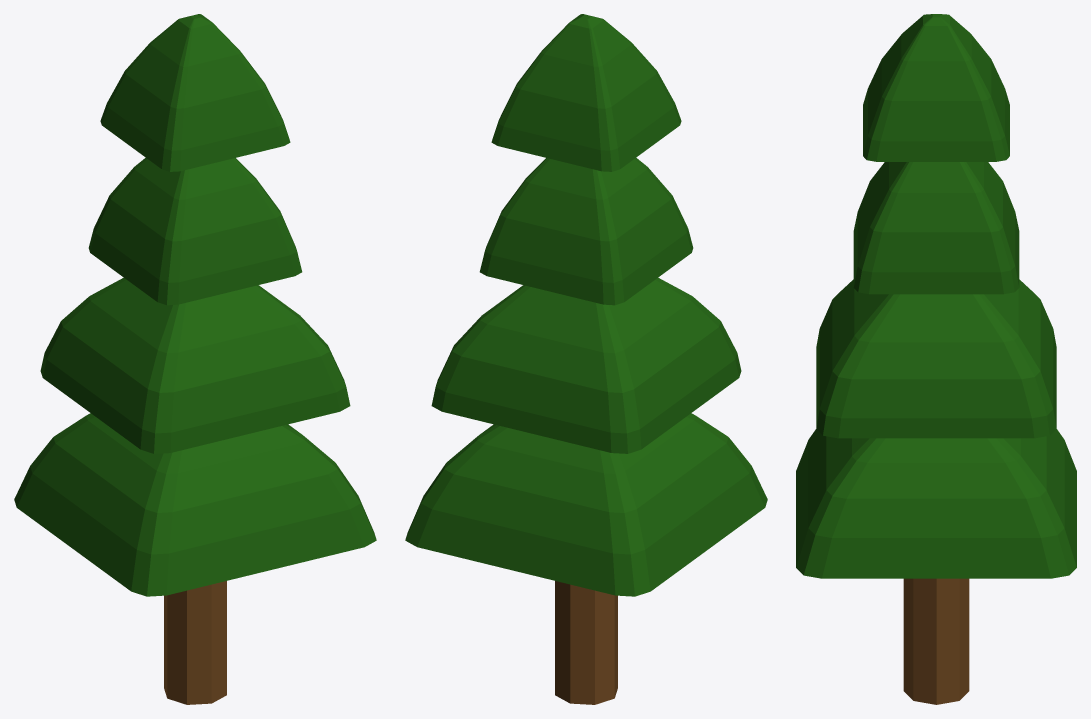
Rendered from Tree_2.fbx.
3 views of the same model, side by side, from view 1: azimuth 30°, elevation 25°; view 2: azimuth 150°, elevation 25°; view 3: azimuth 270°, elevation 25° (orthographic).
Visible parts, largest first — view 1: Tree2; view 2: Tree2; view 3: Tree2.
Boxes of the visible parts, x1,y1,x2,y2 form: Tree2: (14,14,376,704); Tree2: (405,14,767,704); Tree2: (796,14,1076,704).
Bounding box in the file's own units: 98.82 × 262 × 98.82.
